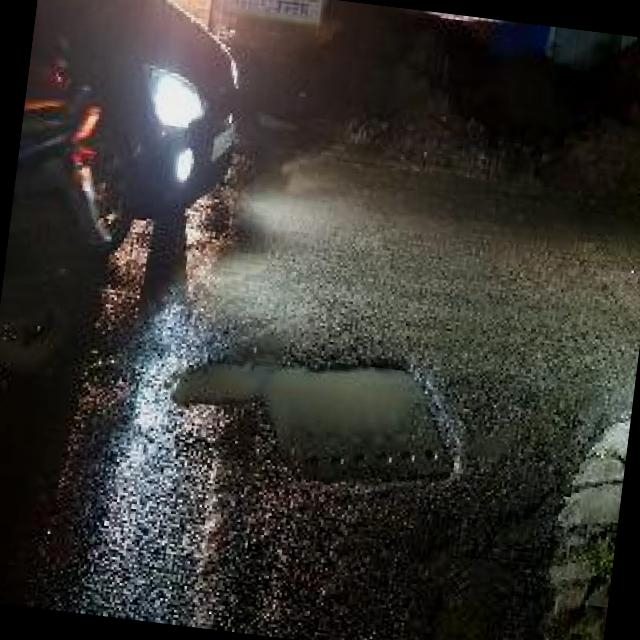stagnation: (150, 330, 487, 497)
